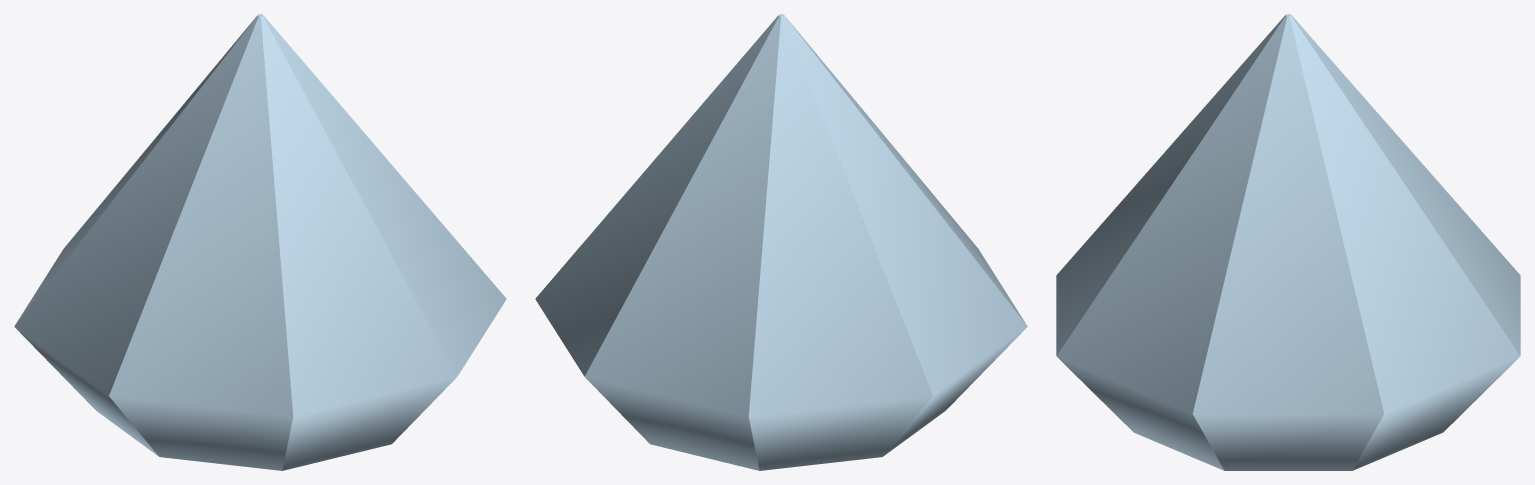
Rendered from diamond.obj.
The picture shows the model from 3 angles, left to right: view 1: azimuth 30°, elevation 25°; view 2: azimuth 150°, elevation 25°; view 3: azimuth 270°, elevation 25°; orthographic projection.
Bounding box in the file's own units: 68.78 × 63.82 × 68.78.
